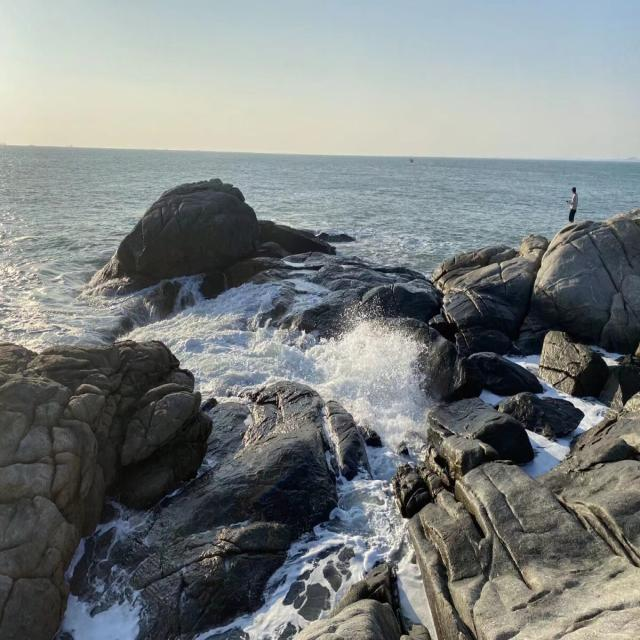reef: (17, 326, 379, 589), (120, 151, 399, 333)
